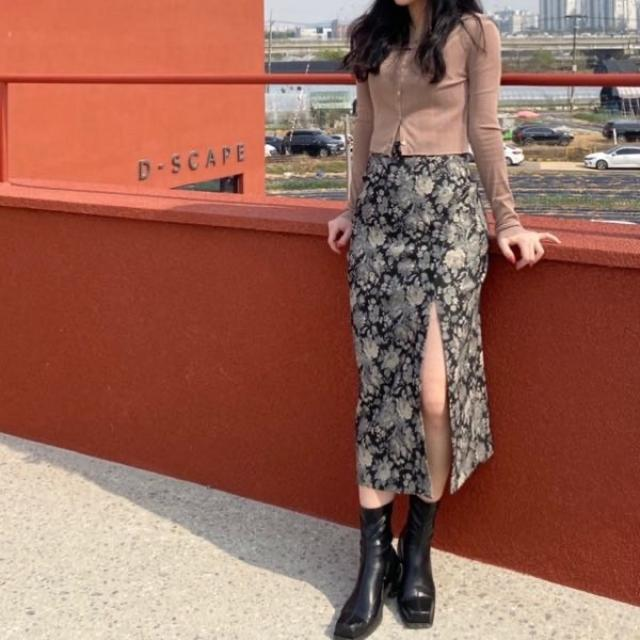cardigan: (332, 1, 522, 232)
skirt: (348, 143, 496, 502)
